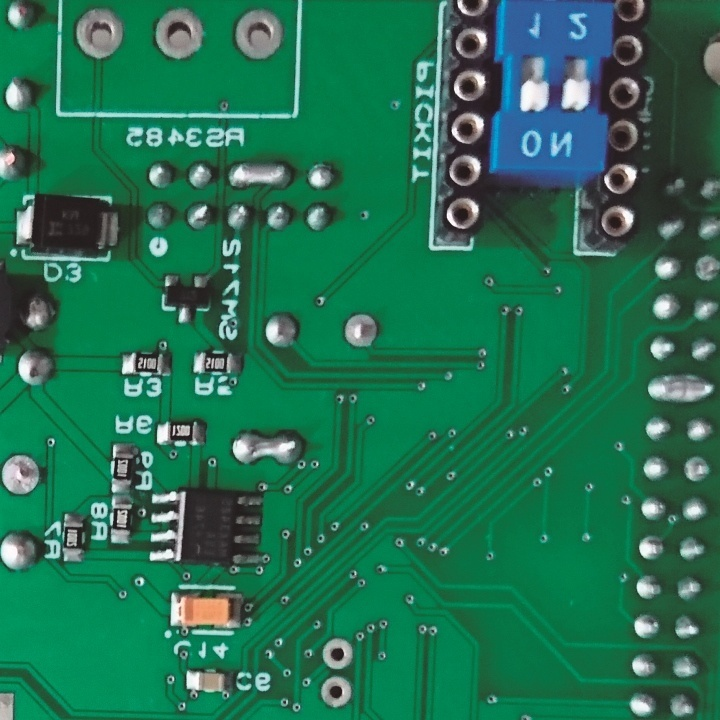F: (229, 13, 289, 65), (153, 8, 208, 63), (73, 6, 127, 58), (1, 452, 44, 499), (316, 673, 356, 713), (342, 309, 380, 351), (316, 634, 353, 670), (629, 606, 662, 643), (681, 452, 713, 483), (634, 532, 665, 564), (694, 252, 720, 285)
P: (231, 429, 305, 469), (224, 158, 292, 192), (647, 372, 716, 402)
